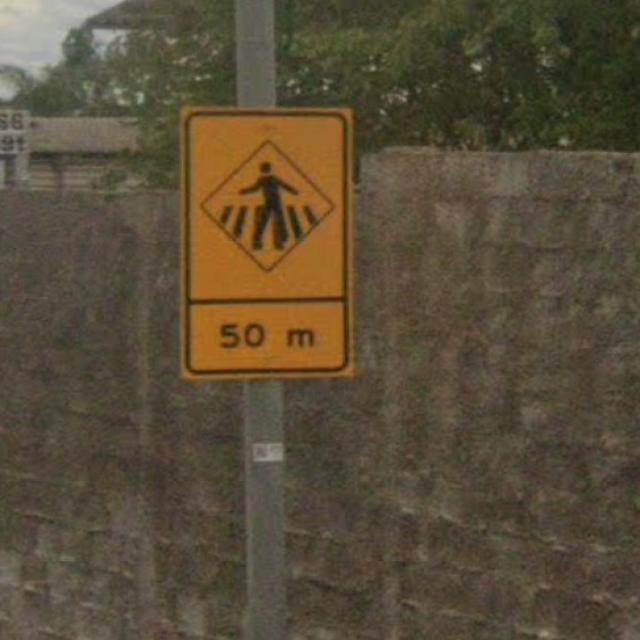pedestrian crossing: (169, 89, 374, 398)
